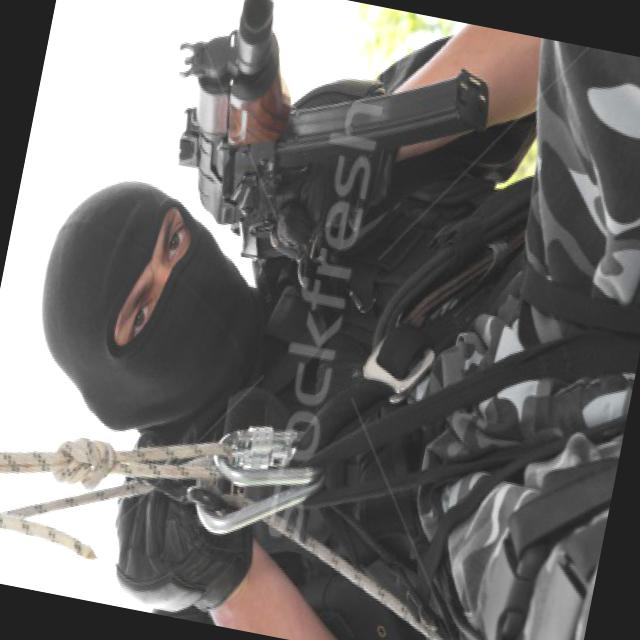long weapon: (141, 0, 507, 294)
